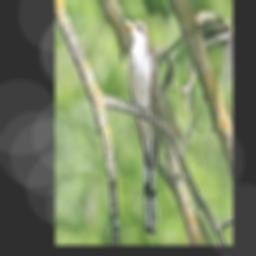Cuckoo: (124, 19, 161, 235)
